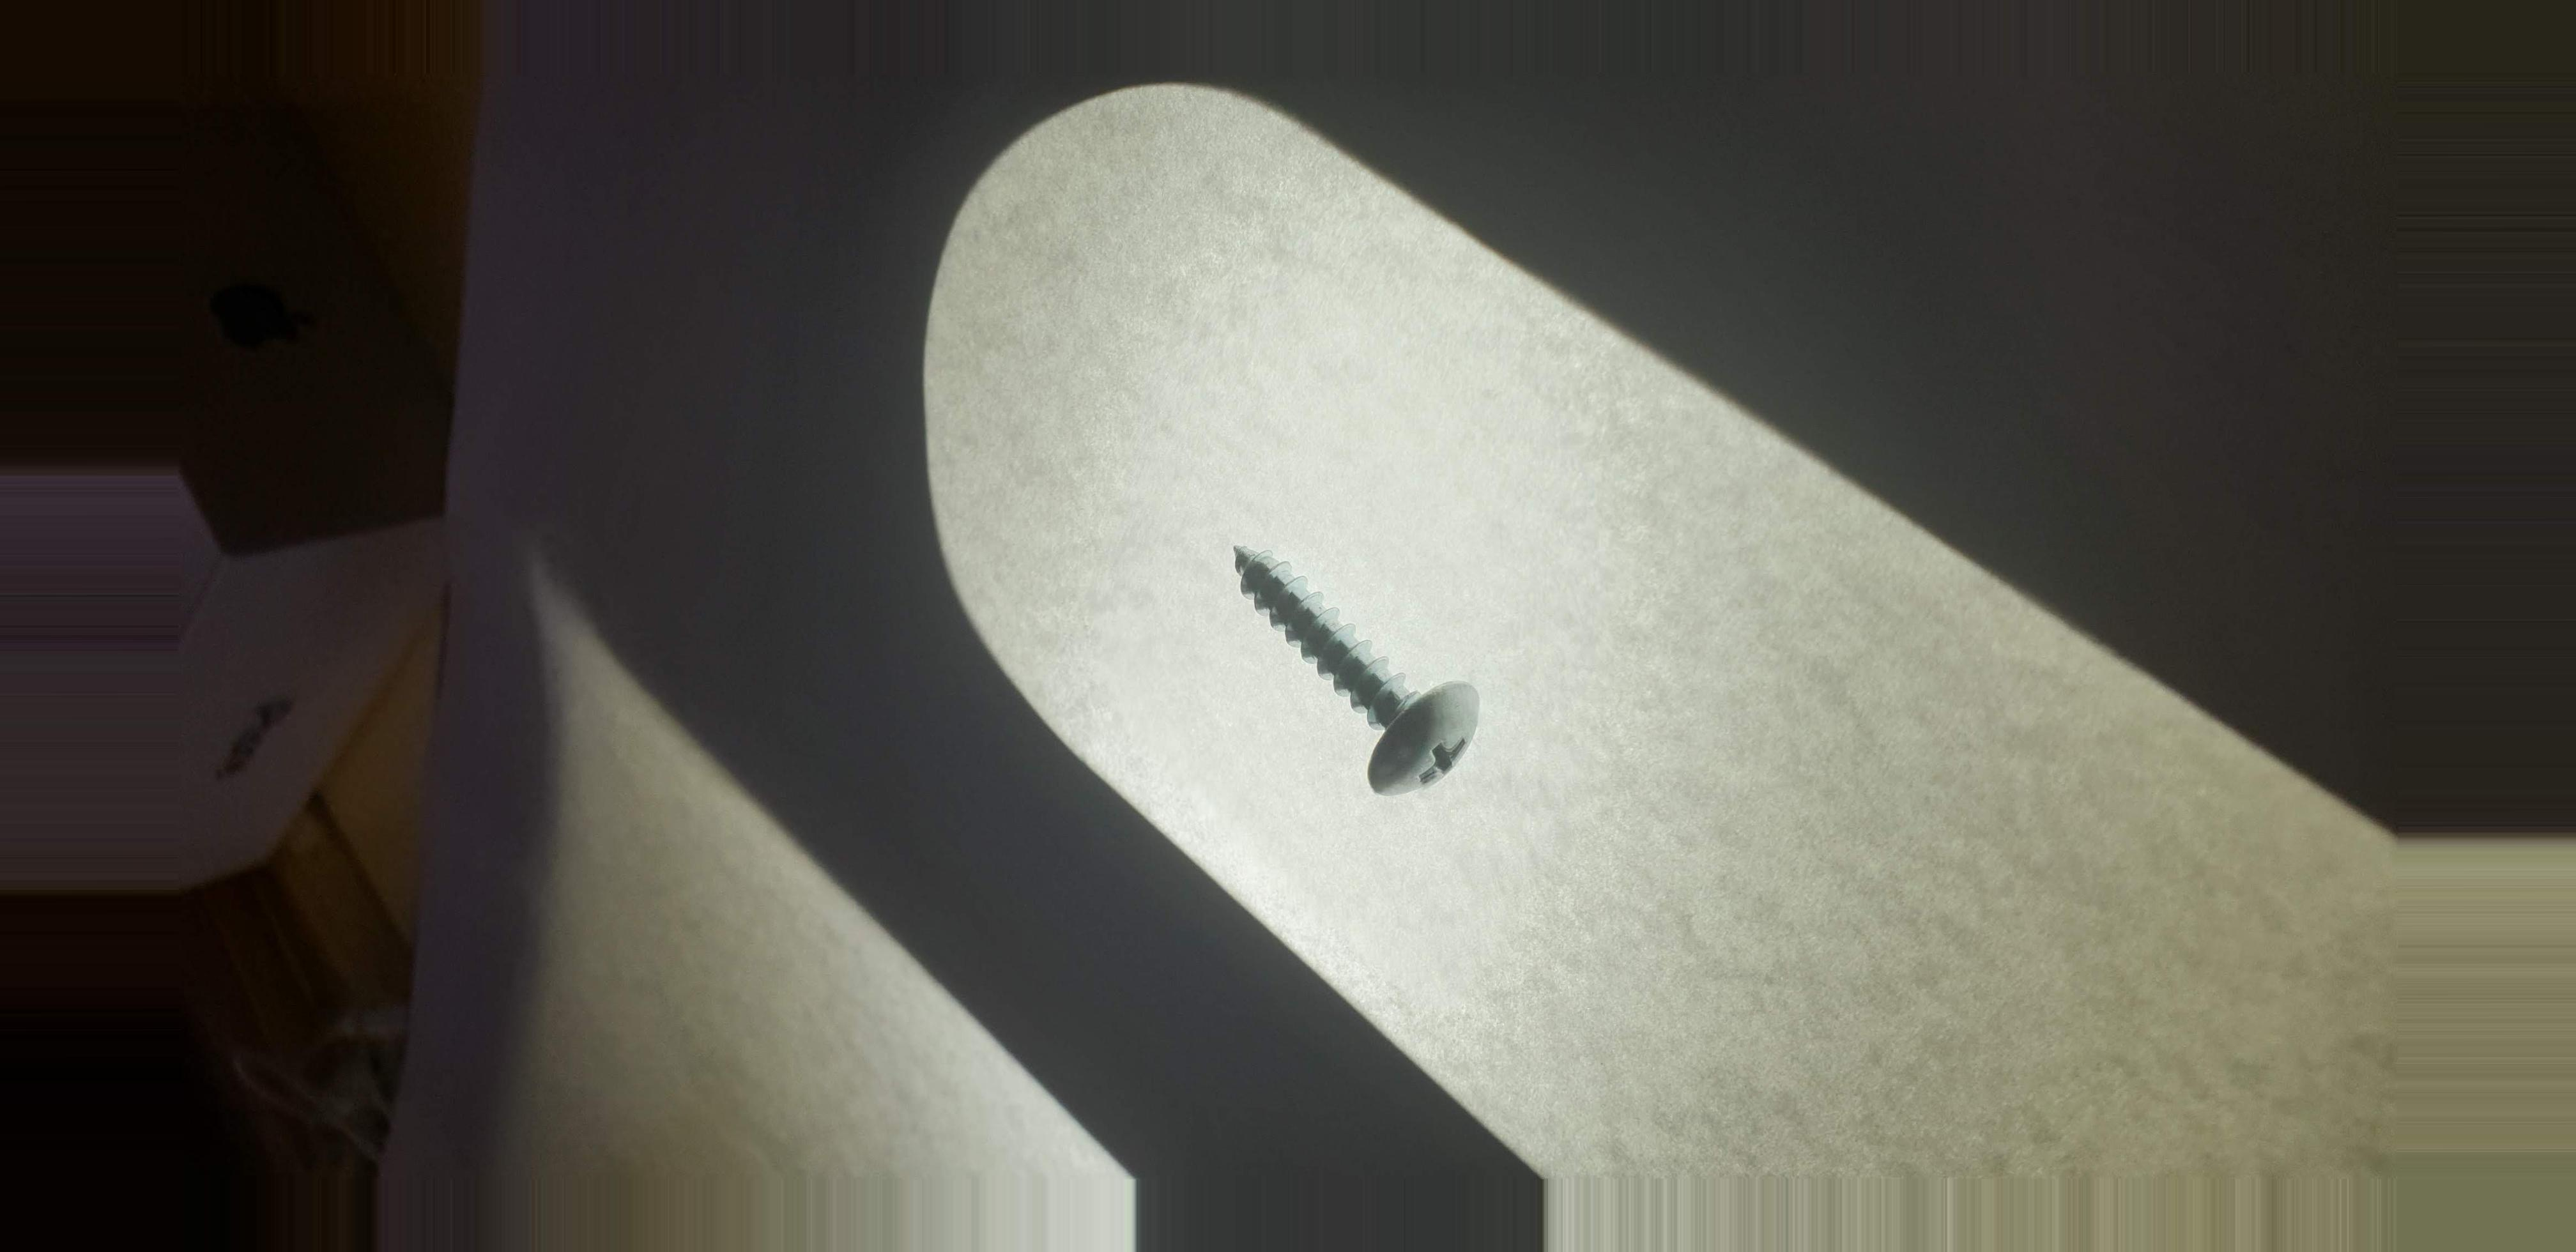S002: (1184, 511, 1516, 830)
